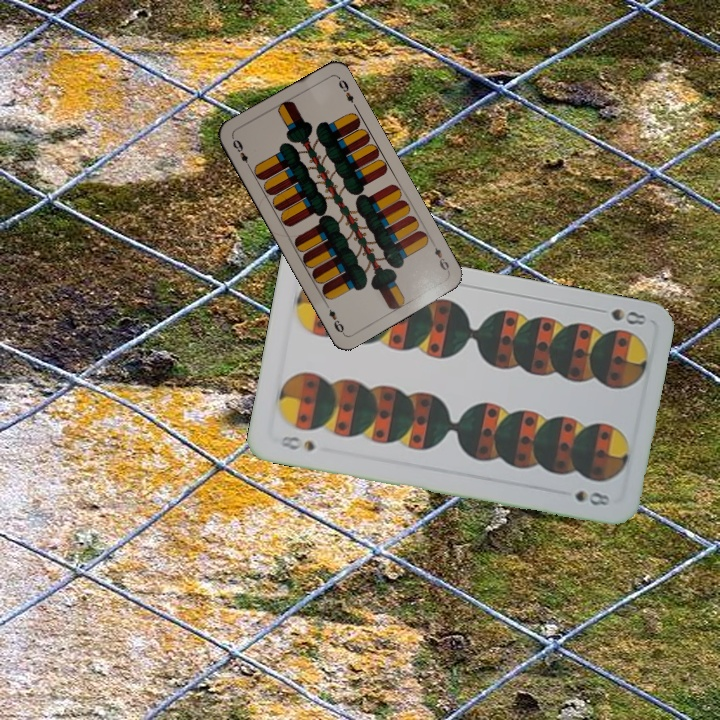E9: (428, 238, 452, 276), (228, 136, 253, 172)
S8: (591, 304, 649, 328), (274, 431, 318, 454)
